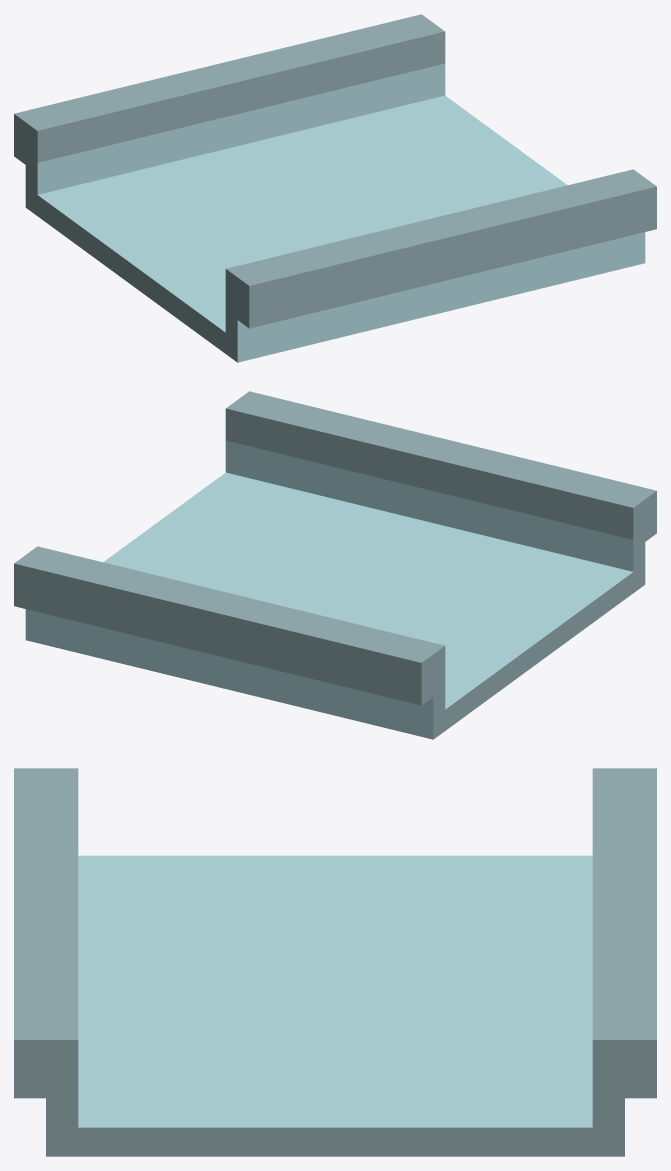
3 views of the same model, one above another, from view 1: azimuth 30°, elevation 25°; view 2: azimuth 150°, elevation 25°; view 3: azimuth 270°, elevation 25° (orthographic). The views are drawn at different scales.
Parts seen in each view (by area): view 1: bridge_center_stoneRound; view 2: bridge_center_stoneRound; view 3: bridge_center_stoneRound.
Part boxes in pixels (<box>): bridge_center_stoneRound: <box>14,14,656,362</box>; bridge_center_stoneRound: <box>14,391,656,739</box>; bridge_center_stoneRound: <box>14,768,656,1156</box>.
Bounding box in the file's own units: 1 × 0.2 × 1.
